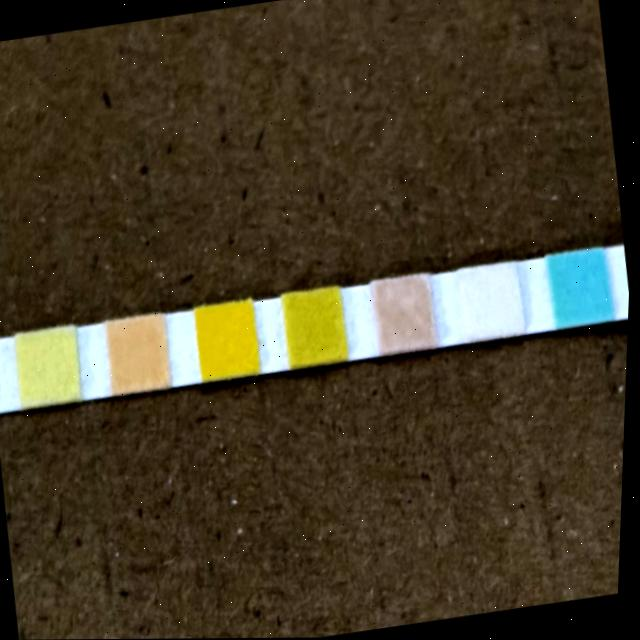Bilirubin: (465, 264, 530, 340)
Blood: (197, 303, 263, 379)
Glucose: (549, 251, 617, 329)
Ketone: (375, 278, 438, 352)
Protein: (17, 329, 86, 406)
SpGravity: (286, 291, 351, 369)
pH: (107, 316, 174, 392)
